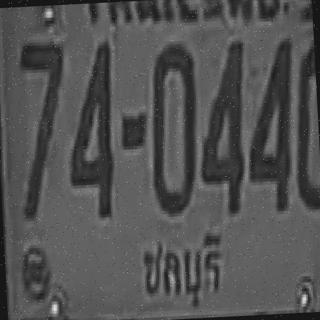N00: (146, 41, 201, 214), (289, 40, 320, 207)
N04: (194, 36, 251, 214), (242, 35, 299, 210), (63, 37, 118, 217)
N07: (16, 38, 71, 218)
P13: (132, 226, 228, 316)
